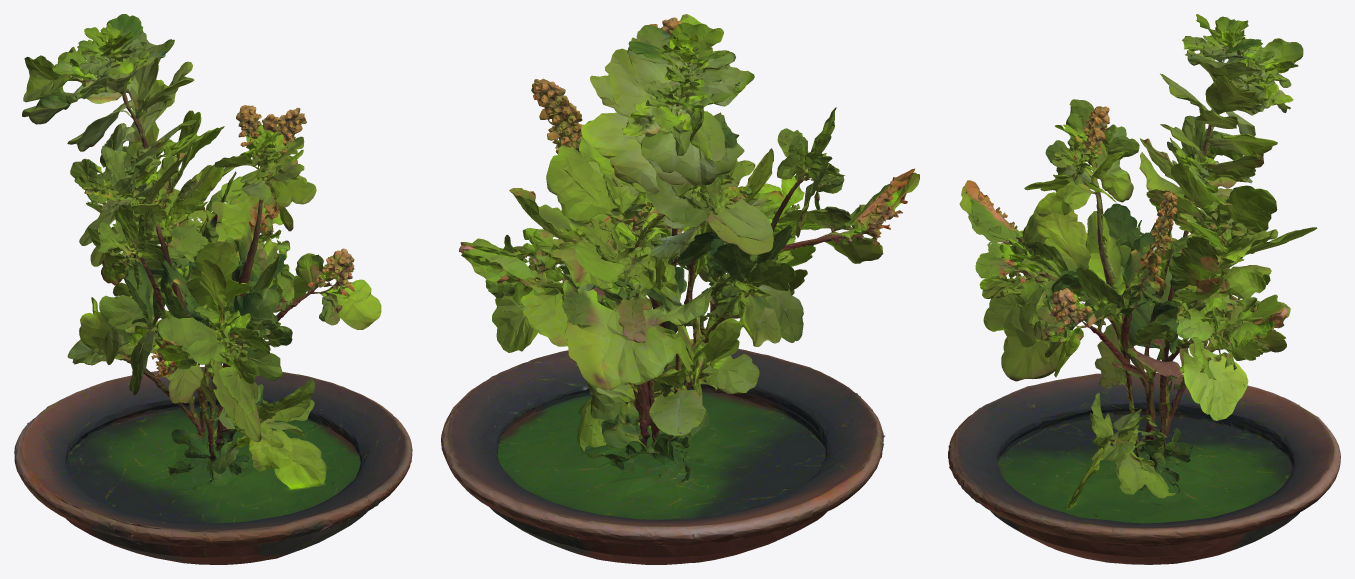
Rendered from tulsi3d.glb.
3 views of the same model, side by side, from view 1: azimuth 30°, elevation 25°; view 2: azimuth 150°, elevation 25°; view 3: azimuth 270°, elevation 25° (orthographic). The views are drawn at different scales.
Parts seen in each view (by area): view 1: tmpms8mc8xt.obj; view 2: tmpms8mc8xt.obj; view 3: tmpms8mc8xt.obj.
Boxes of the visible parts, box(x1,y1,x2,y2) form: tmpms8mc8xt.obj: box(14, 14, 412, 564); tmpms8mc8xt.obj: box(441, 14, 919, 564); tmpms8mc8xt.obj: box(948, 14, 1340, 564).
Size of the model in its own units: 1.35 by 1.75 by 1.35.
1 material, 1 textured.
